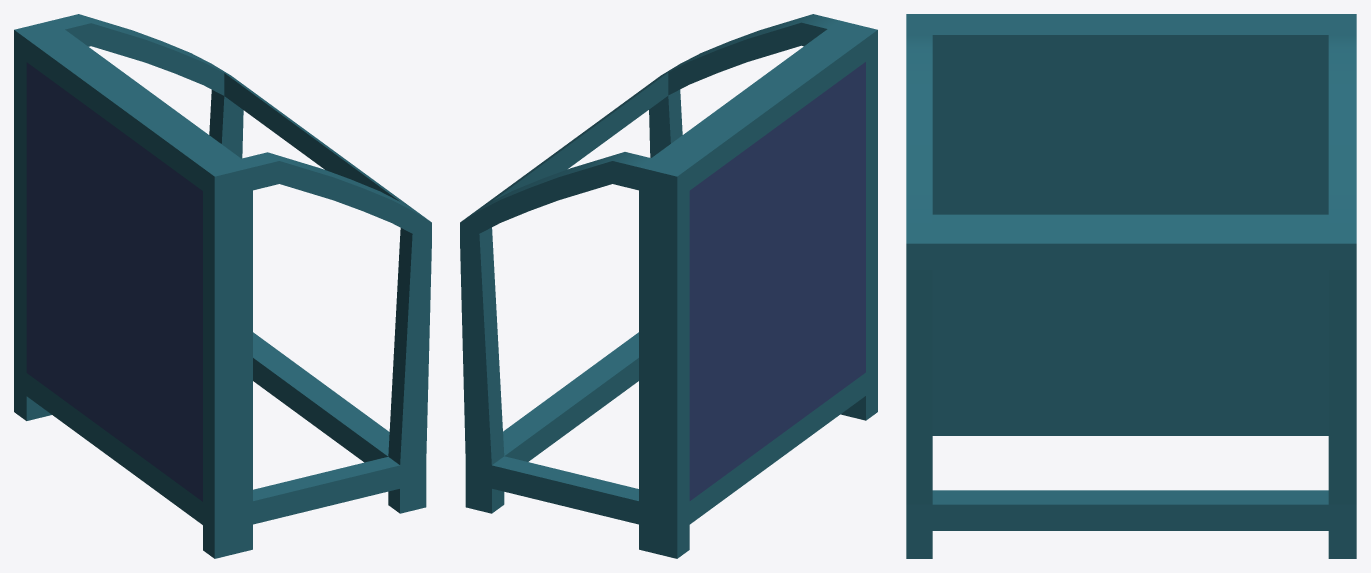
Rendered from Billboard_Extra_Details.fbx.
3 renders of one model, left to right at view 1: azimuth 30°, elevation 25°; view 2: azimuth 150°, elevation 25°; view 3: azimuth 270°, elevation 25°, orthographic. The views are drawn at different scales.
Visible parts, largest first — view 1: polySurface895; view 2: polySurface895; view 3: polySurface895.
Part boxes in pixels (<box>): polySurface895: <box>14,14,431,558</box>; polySurface895: <box>460,14,877,558</box>; polySurface895: <box>906,14,1356,558</box>.
Size of the model in its own units: 36.15 by 60.82 by 57.87.
